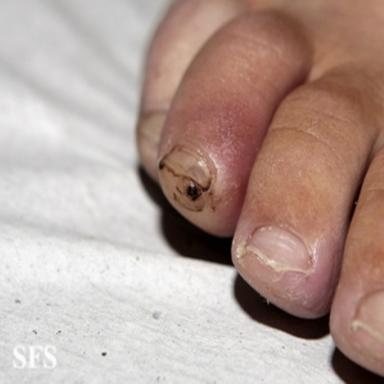Tungiasis: (173, 178, 223, 214)
